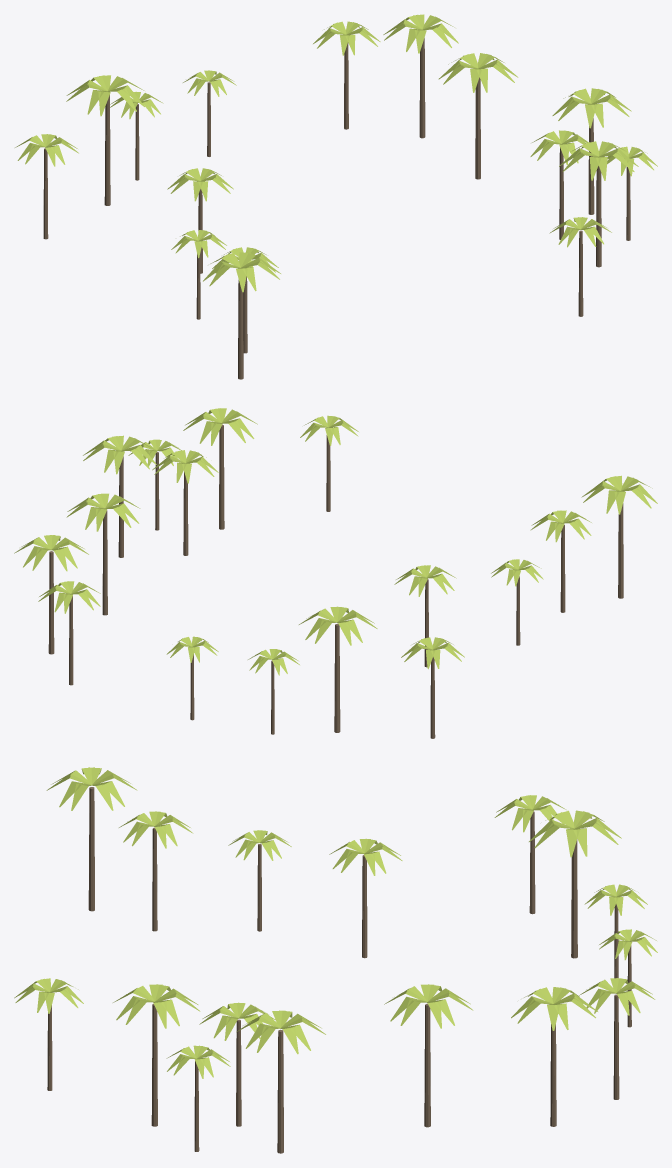
The model's file is Pampulha_VEG_PALMEIRAS.fbx.
3 views of the same model, one above another, from view 1: azimuth 30°, elevation 25°; view 2: azimuth 150°, elevation 25°; view 3: azimuth 270°, elevation 25° (orthographic). The views are drawn at different scales.
Visible parts, largest first — view 1: Pampulha_VEG_PALMEIRAS; view 2: Pampulha_VEG_PALMEIRAS; view 3: Pampulha_VEG_PALMEIRAS.
Boxes of the visible parts, x1,y1,x2,y2 form: Pampulha_VEG_PALMEIRAS: [15, 14, 657, 379]; Pampulha_VEG_PALMEIRAS: [14, 408, 657, 738]; Pampulha_VEG_PALMEIRAS: [14, 767, 657, 1153].
Size of the model in its own units: 62.39 by 14.44 by 61.38.
